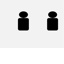human: (16, 10, 30, 32), (46, 9, 59, 31)
